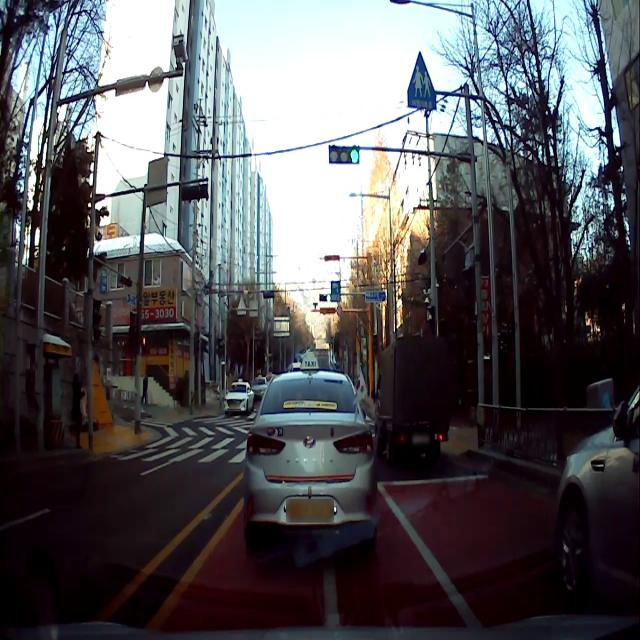Green Light: (350, 145, 359, 165)
